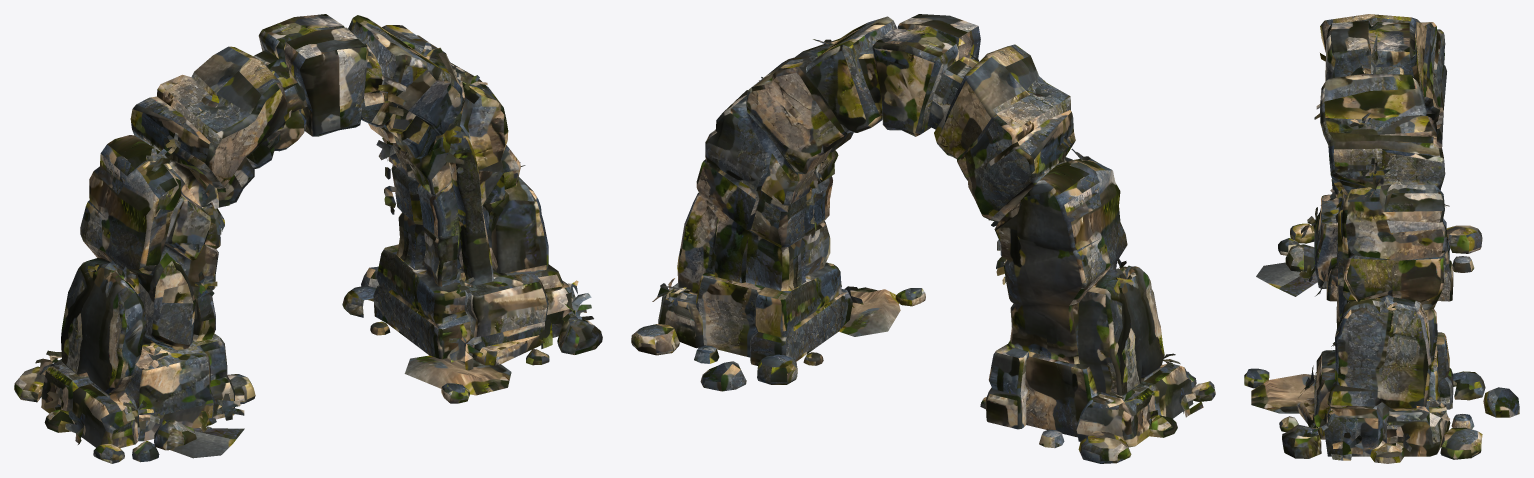
The model's file is stone+arch+3d+model(1).fbx.
The picture shows the model from 3 angles, left to right: view 1: azimuth 30°, elevation 25°; view 2: azimuth 150°, elevation 25°; view 3: azimuth 270°, elevation 25°; orthographic projection. The views are drawn at different scales.
Parts seen in each view (by area): view 1: tripo_7f31d14a_8df5_4204_811d_df38d167c4ad; view 2: tripo_7f31d14a_8df5_4204_811d_df38d167c4ad; view 3: tripo_7f31d14a_8df5_4204_811d_df38d167c4ad.
Part boxes in pixels (x1,y1,x2,y2): tripo_7f31d14a_8df5_4204_811d_df38d167c4ad: (14, 14, 602, 463); tripo_7f31d14a_8df5_4204_811d_df38d167c4ad: (631, 14, 1215, 463); tripo_7f31d14a_8df5_4204_811d_df38d167c4ad: (1244, 14, 1519, 463).
Size of the model in its own units: 0.9995 by 0.6323 by 0.4985.
